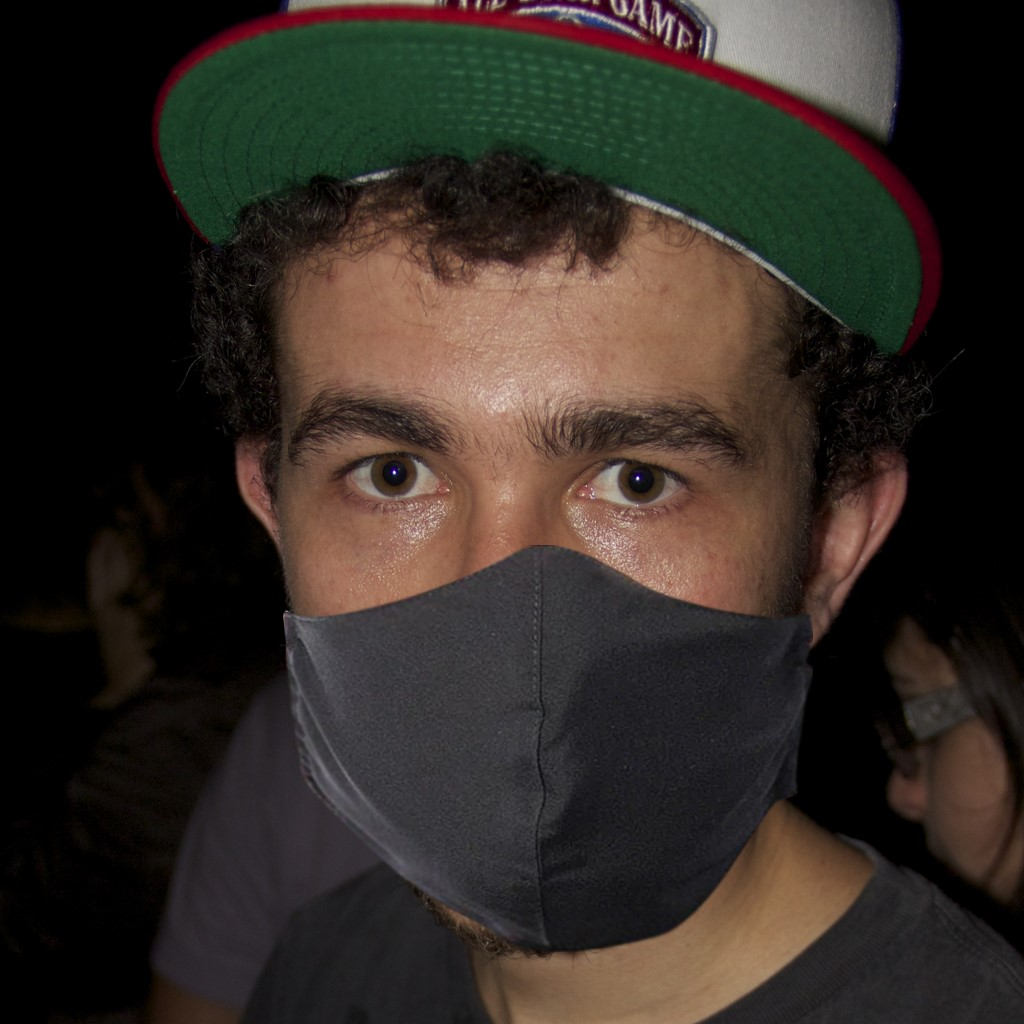con_mascara: (228, 126, 871, 971)
